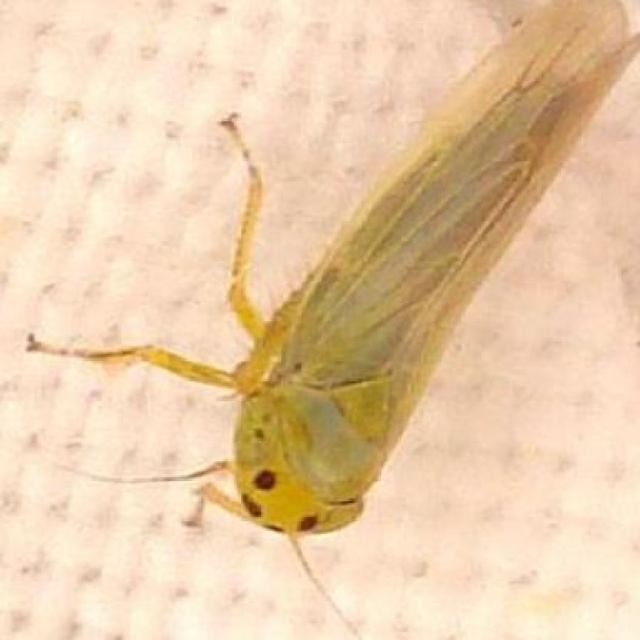green-leafhopper: (25, 0, 640, 537)
